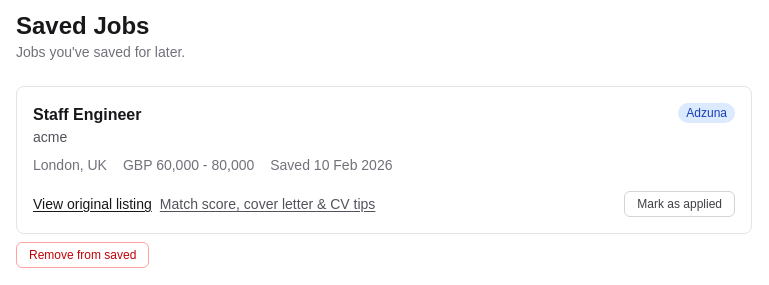
Test: SavedJobsScreen › removes a saved job from the list immediately after a confirmed delete
Expected: the heading "Staff Engineer" is shown, [33, 103, 142, 127]
Click the button "Remove from saved" at x=83, y=255, box [16, 242, 149, 268]
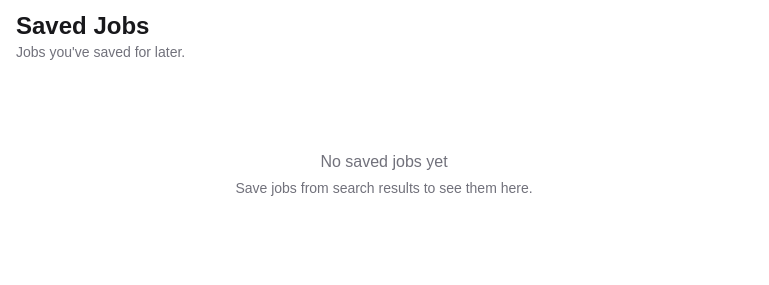
Expected: the text "No saved jobs yet" is shown, [320, 150, 448, 174]
